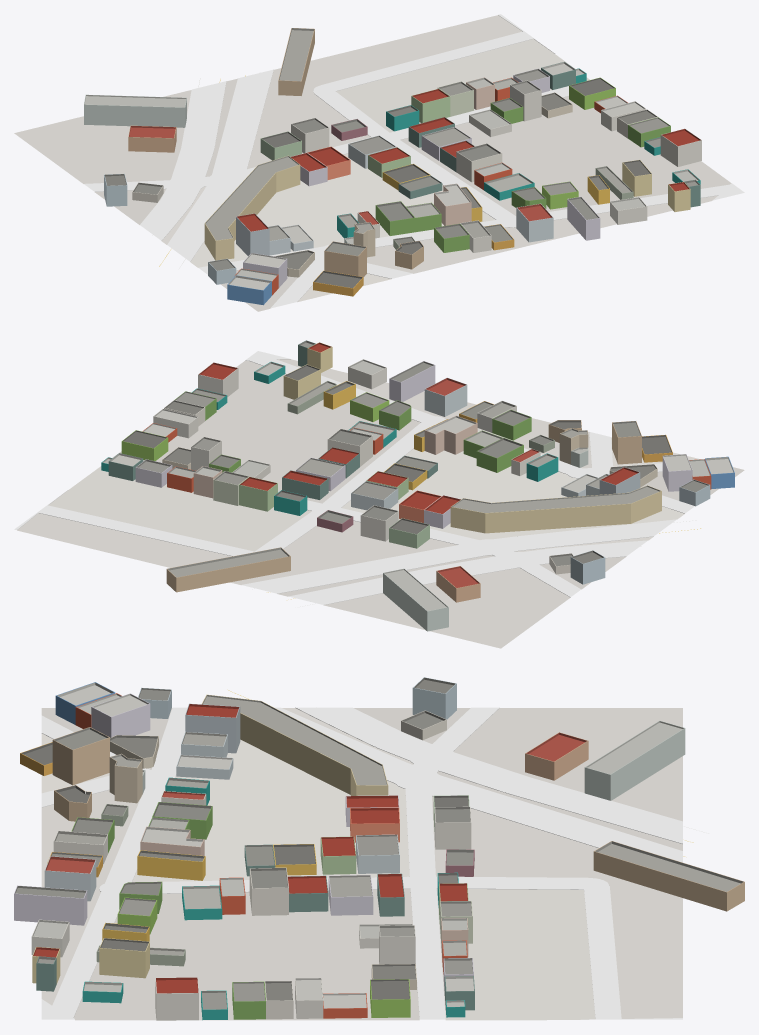
3 renders of one model, top to bottom at view 1: azimuth 30°, elevation 25°; view 2: azimuth 150°, elevation 25°; view 3: azimuth 270°, elevation 25°, orthographic. The views are drawn at different scales.
Visible parts, largest first — view 1: ground, walls, roofs, sidewalk; view 2: ground, walls, roofs, sidewalk; view 3: ground, walls, roofs, sidewalk.
Part boxes in pixels (x1=…): ground: x1=14, y1=15, x2=731, y2=311; walls: x1=84, y1=29, x2=701, y2=305; roofs: x1=84, y1=28, x2=701, y2=290; sidewalk: x1=84, y1=14, x2=744, y2=308; ground: x1=17, y1=359, x2=744, y2=648; walls: x1=101, y1=344, x2=734, y2=631; roofs: x1=101, y1=340, x2=734, y2=611; sidewalk: x1=14, y1=351, x2=694, y2=605; ground: x1=41, y1=708, x2=682, y2=1020; walls: x1=14, y1=684, x2=744, y2=1020; roofs: x1=14, y1=677, x2=744, y2=1009; sidewalk: x1=41, y1=707, x2=682, y2=1019.
Size of what is drawn, in the model's own units: 265 by 13.21 by 247.
